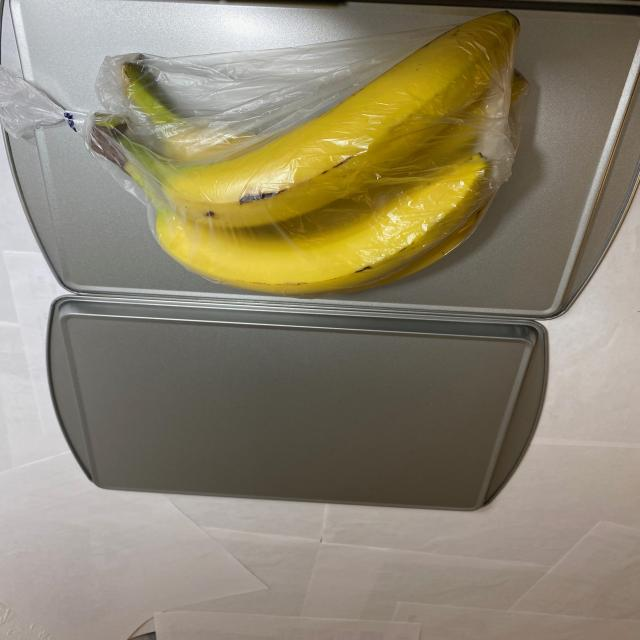banana: (69, 8, 542, 299)
